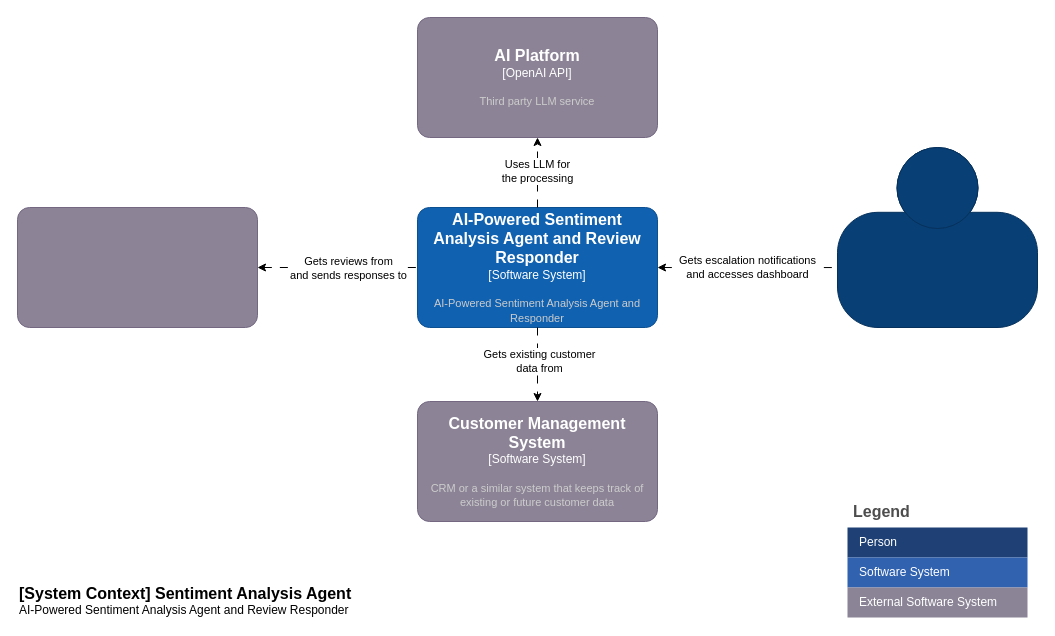
The diagram is 1055 pixels wide and 636 high, and some of its shapes have lost their labels. The shapes that lost their labels are listed below. From the top down, each one's box as (x1, y1, x2, y2) in pixels, then its label:
(836, 146, 1038, 328): Escalation Manager [Person] Responsible for customer satisfaction
(16, 206, 258, 328): Social Media Reviews [Google Maps, Instagra, Facebook] Social madia providers
